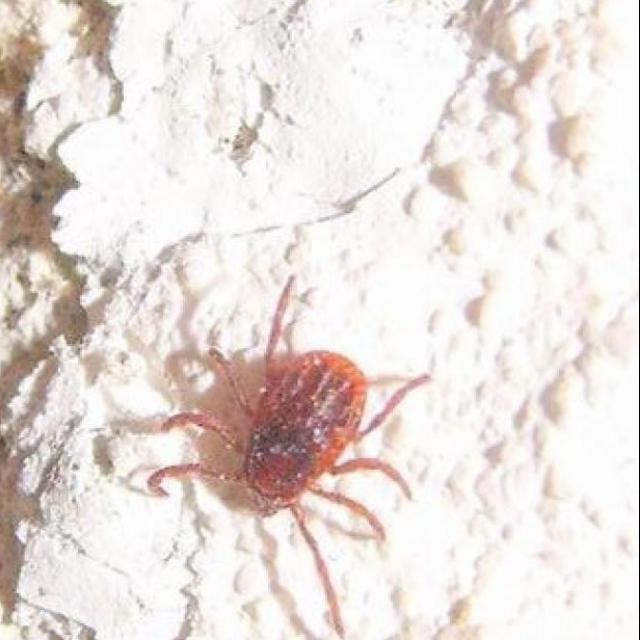Rhipicephalus Sanguineus-F: (131, 274, 429, 639)
